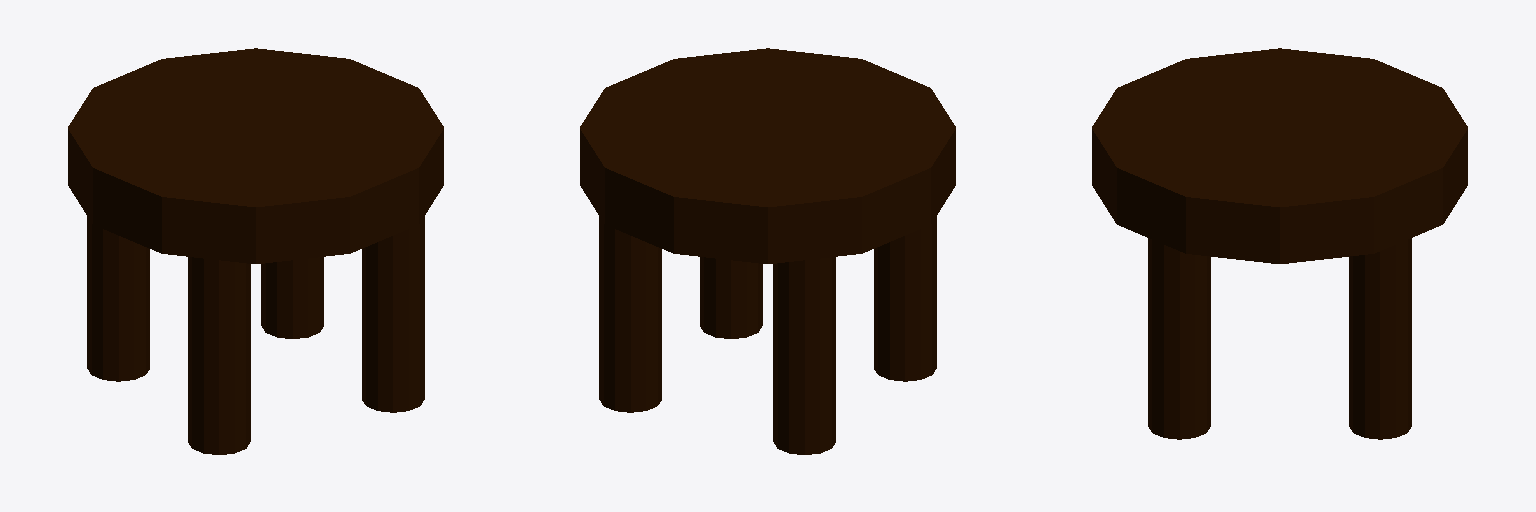
Rendered from tabouret.obj.
3 renders of one model, left to right at view 1: azimuth 30°, elevation 25°; view 2: azimuth 150°, elevation 25°; view 3: azimuth 270°, elevation 25°, orthographic.
Parts seen in each view (by area): view 1: Cylinder, Cylinder.001, Cylinder.003, Cylinder.002, Cylinder.004; view 2: Cylinder, Cylinder.002, Cylinder.004, Cylinder.001, Cylinder.003; view 3: Cylinder, Cylinder.003, Cylinder.004.
Part boxes in pixels (x1,y1,x2,y2): Cylinder: (68,48,443,263); Cylinder.001: (188,257,250,454); Cylinder.003: (362,216,424,412); Cylinder.002: (87,216,149,381); Cylinder.004: (261,257,323,338); Cylinder: (580,48,955,263); Cylinder.002: (773,257,835,454); Cylinder.004: (599,216,661,412); Cylinder.001: (874,216,936,381); Cylinder.003: (700,257,762,338); Cylinder: (1092,48,1467,263); Cylinder.003: (1148,238,1210,439); Cylinder.004: (1349,238,1411,439).
Bounding box in the file's own units: 0.75 × 0.5625 × 0.75.